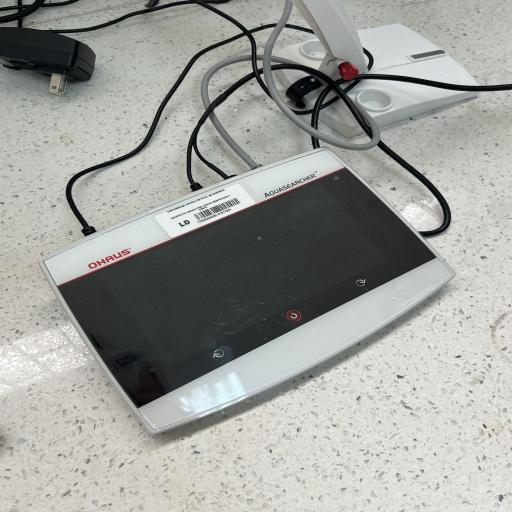Phmetro_Ohaus: (27, 139, 463, 441)
